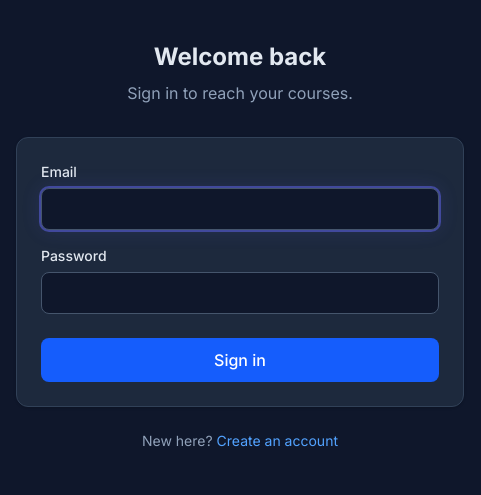
Test: Login page › shows the uniform 401 message as text
Type "ada@example.com" into the field labelled "Email" at coordinates (240, 209), box [41,188,439,230]
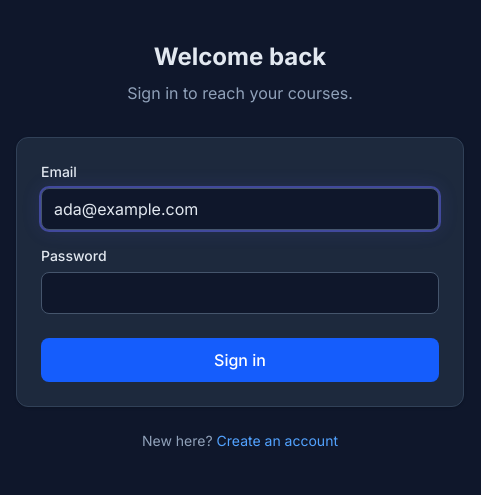
Type "correct horse battery staple" into the password field labelled "Password" at coordinates (240, 293), box [41,272,439,314]
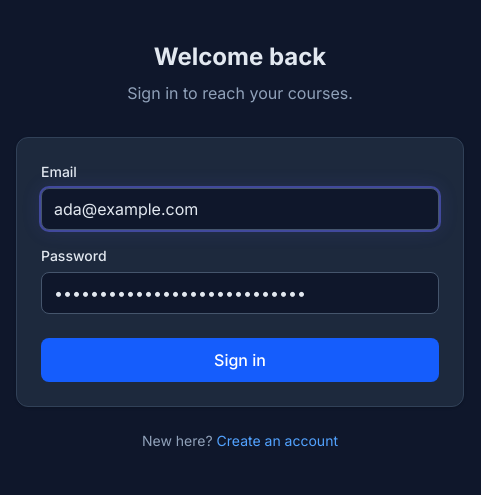
Click the button "Sign in" at coordinates (240, 360), box [41,338,439,382]
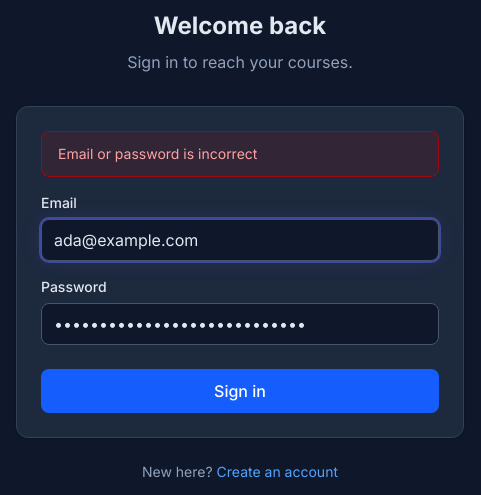
expect the button "Sign in" is enabled: met, box [41,369,439,413]
expect the message reads "Email or password is incorrect": met, box [58,145,257,162]
